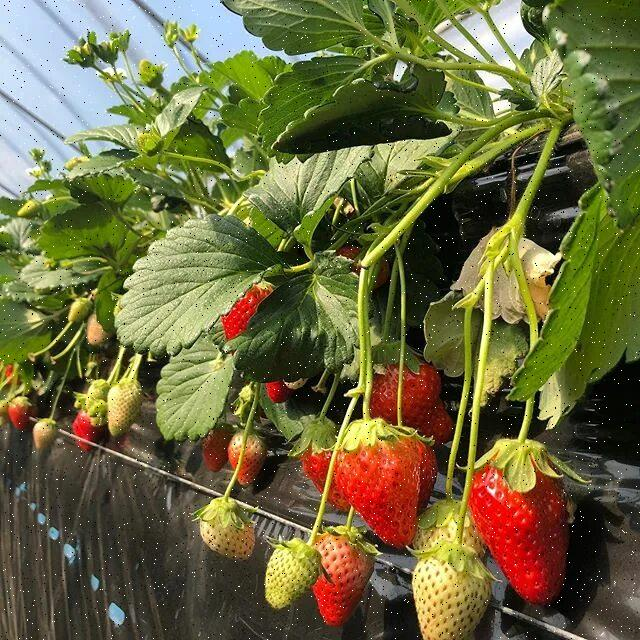Ripe Strawberry: (469, 462, 568, 600), (334, 436, 438, 544), (300, 443, 352, 509), (374, 367, 436, 419), (225, 286, 271, 340), (419, 404, 453, 444), (204, 427, 226, 472), (71, 416, 92, 448), (340, 245, 371, 266), (10, 398, 28, 428), (266, 382, 288, 402), (3, 363, 13, 380)
